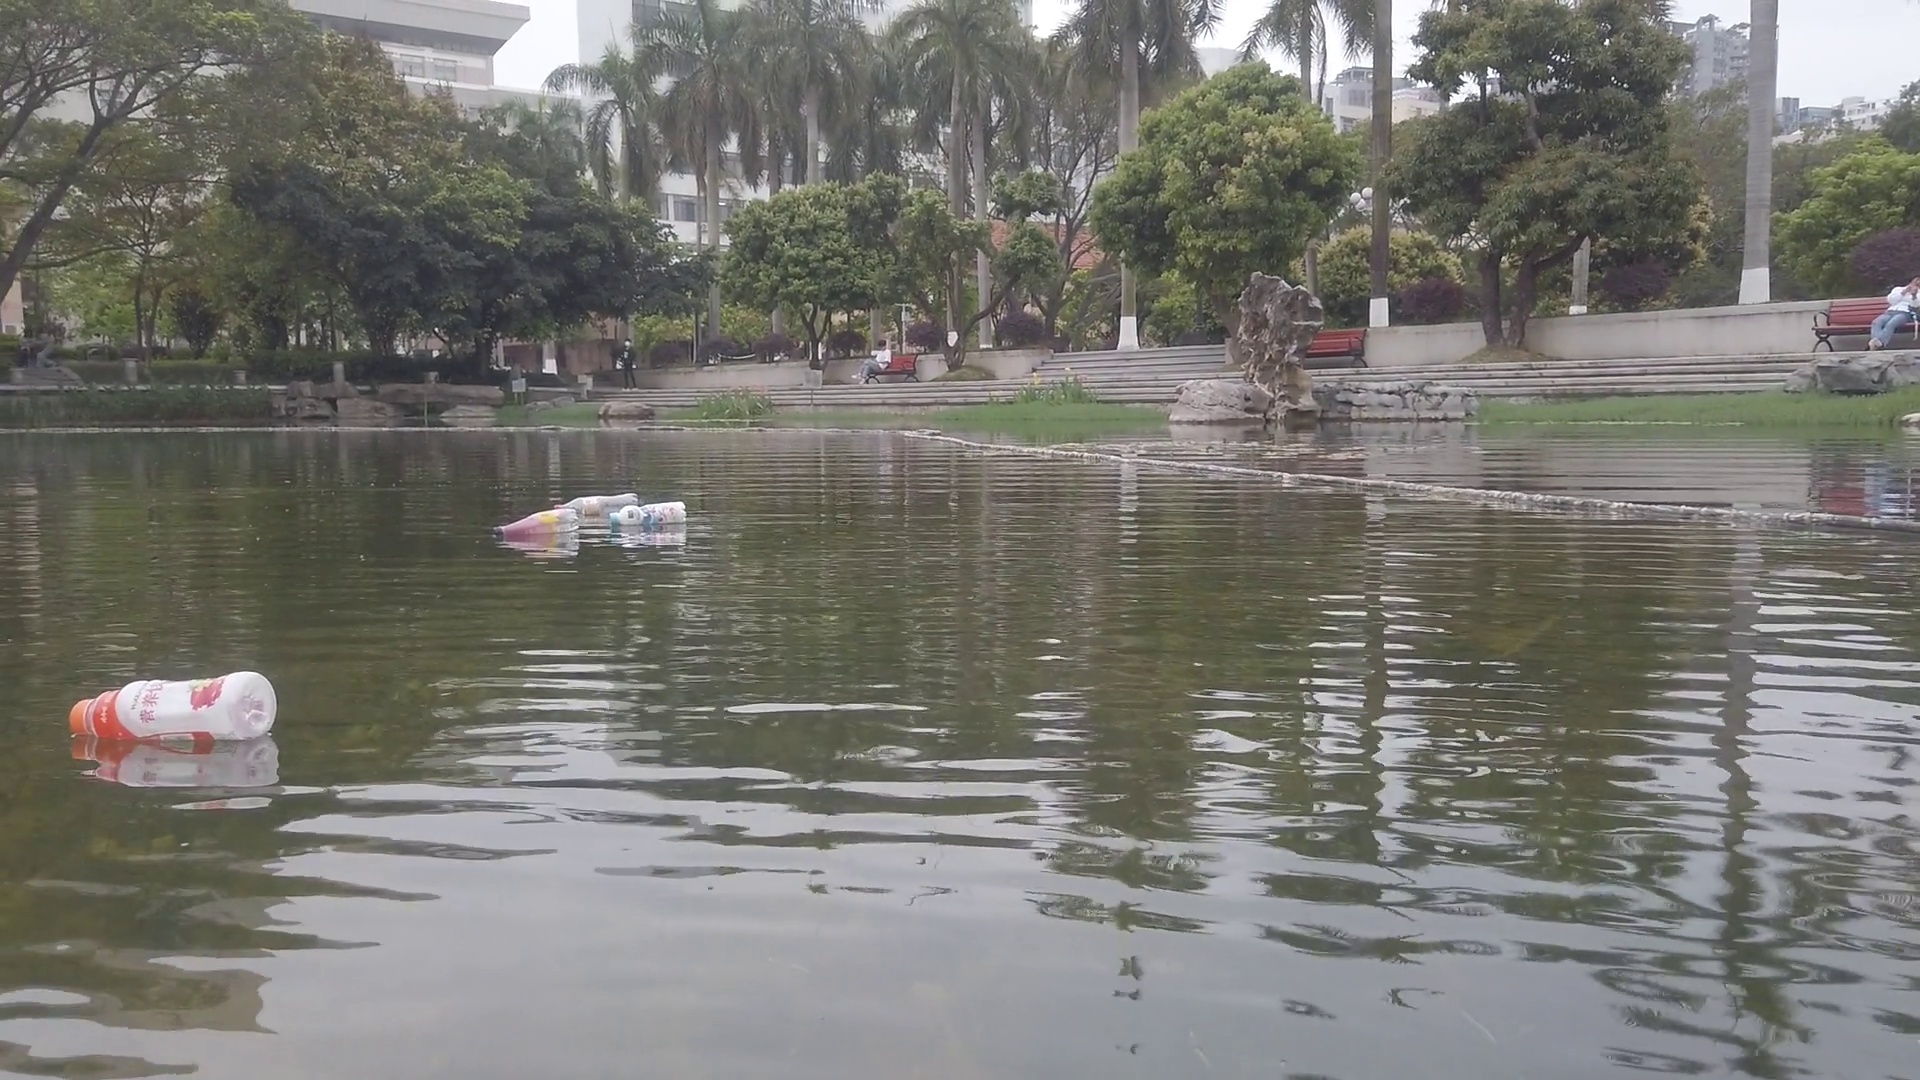bottle: (67, 669, 278, 742), (555, 491, 640, 518), (495, 510, 579, 537), (611, 502, 688, 529)
